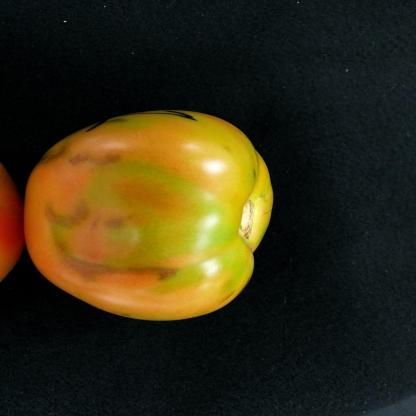T_F_R: (26, 112, 274, 321)
